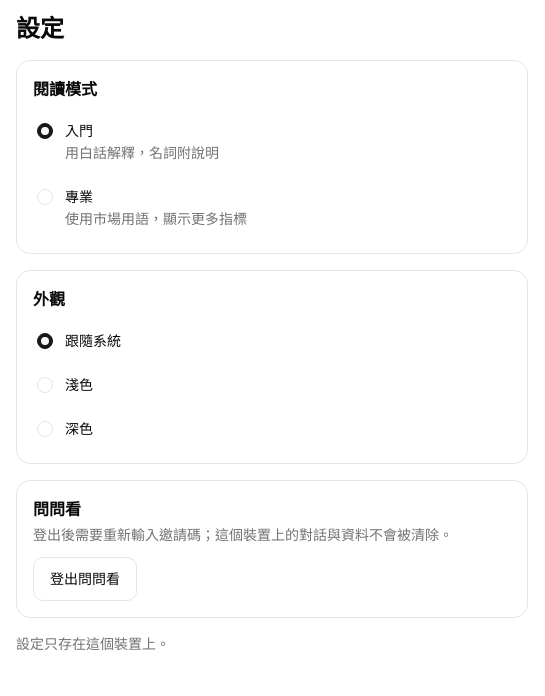
Scenario: SettingsScreen › signs out of 問問看 and confirms with 已登出
Expected: the text "已登出" is not shown
Click the button "登出問問看" at x=85, y=579, box x1=33 y1=557 x2=137 y2=601
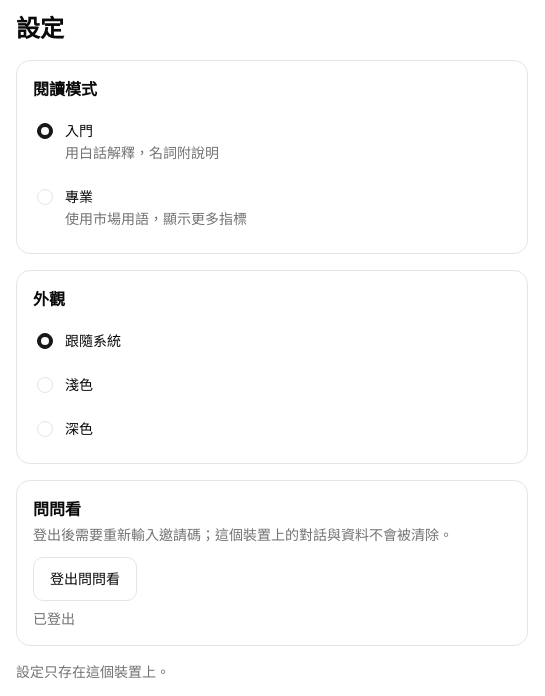
Expected: the message reads "已登出", x1=33 y1=609 x2=75 y2=628
